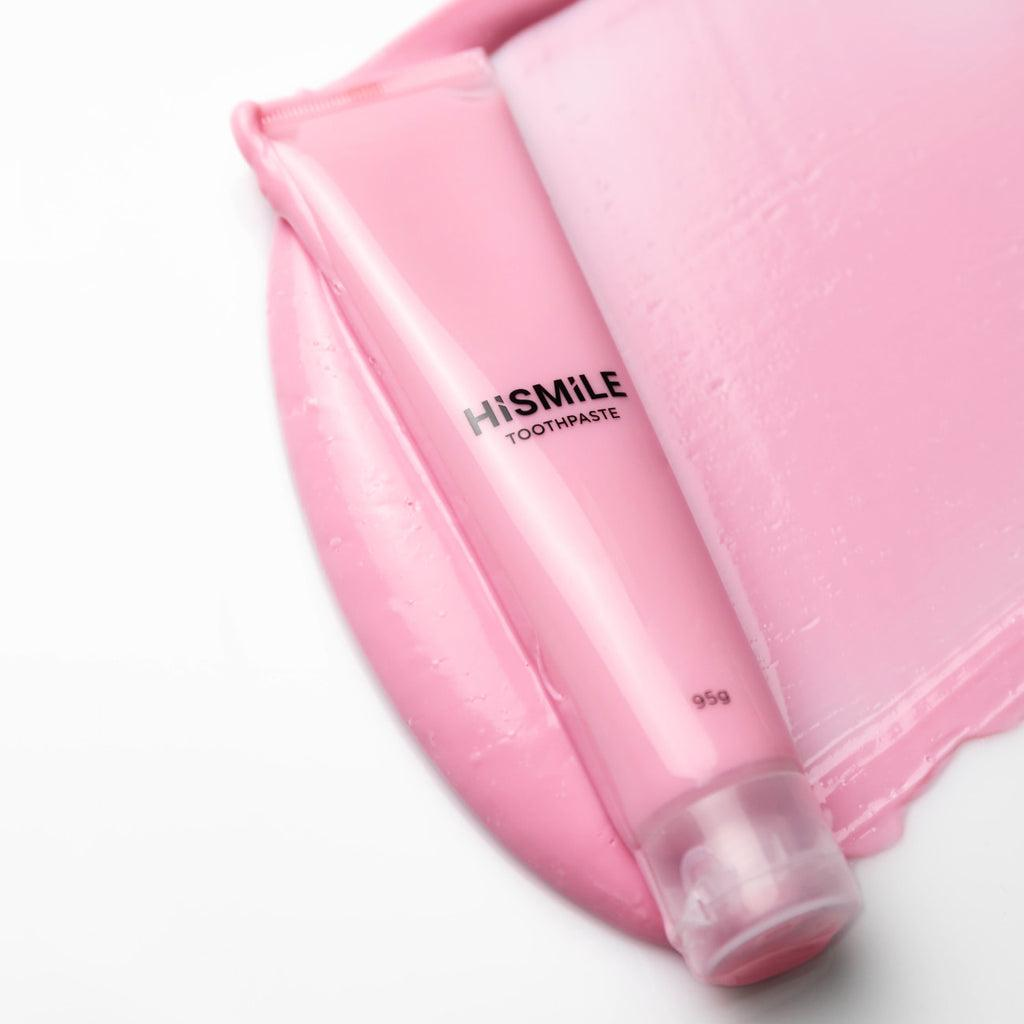toothpaste: (207, 49, 870, 1002)
